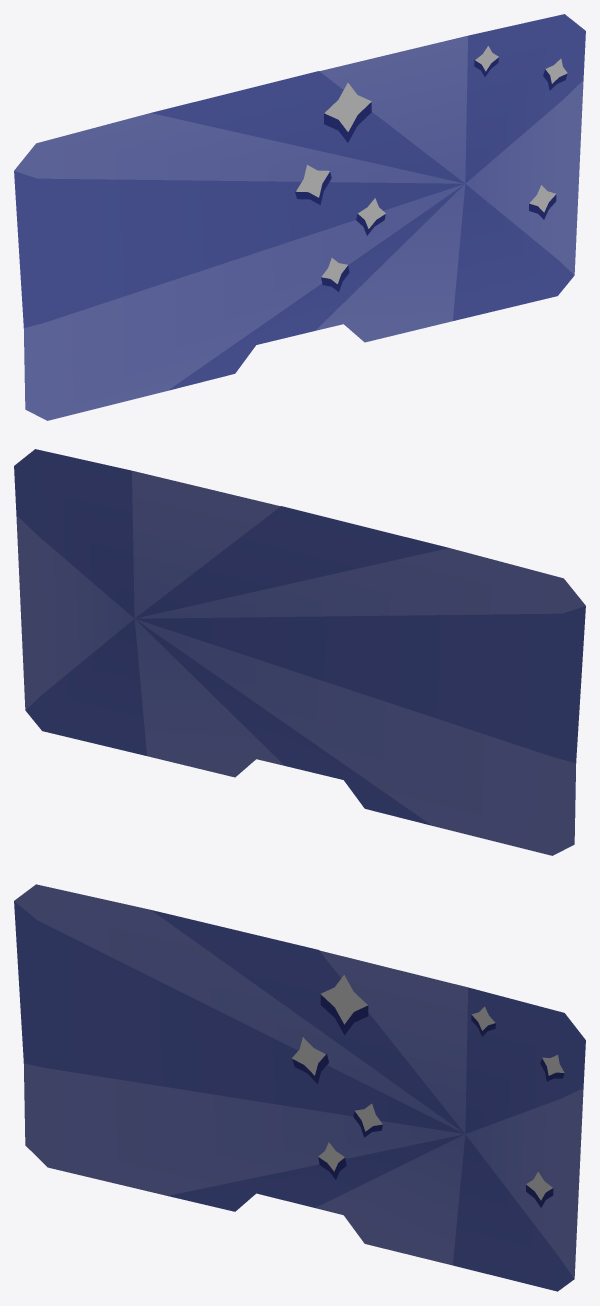
File: ScoreScreenBlue.glb
3 renders of one model, top to bottom at view 1: azimuth 30°, elevation 25°; view 2: azimuth 150°, elevation 25°; view 3: azimuth 330°, elevation 25°, orthographic.
Visible parts, largest first — view 1: ScoreScreenBlue; view 2: ScoreScreenBlue; view 3: ScoreScreenBlue.
Boxes of the visible parts, left/top/right/bottom form: ScoreScreenBlue: left=14, top=14, right=585, bottom=420; ScoreScreenBlue: left=14, top=449, right=585, bottom=855; ScoreScreenBlue: left=14, top=884, right=585, bottom=1291.
Bounding box in the file's own units: 2.24 × 1.06 × 0.0141.
